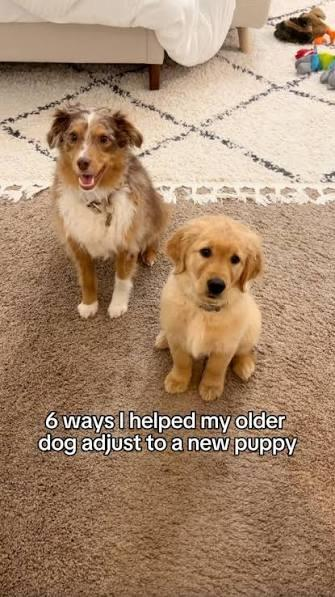adult_dog: (42, 97, 176, 320)
puppy-dog: (154, 213, 269, 402)
